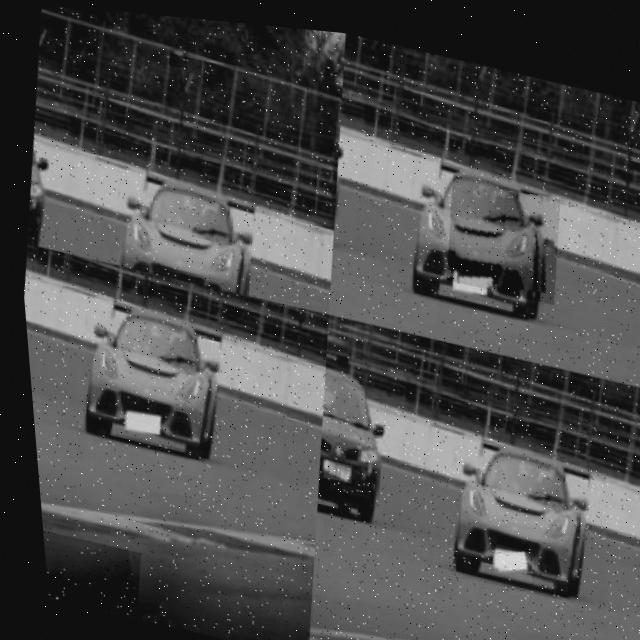LicensePlate: (451, 179, 551, 282), (35, 549, 128, 605), (487, 542, 524, 565), (317, 454, 344, 477)
